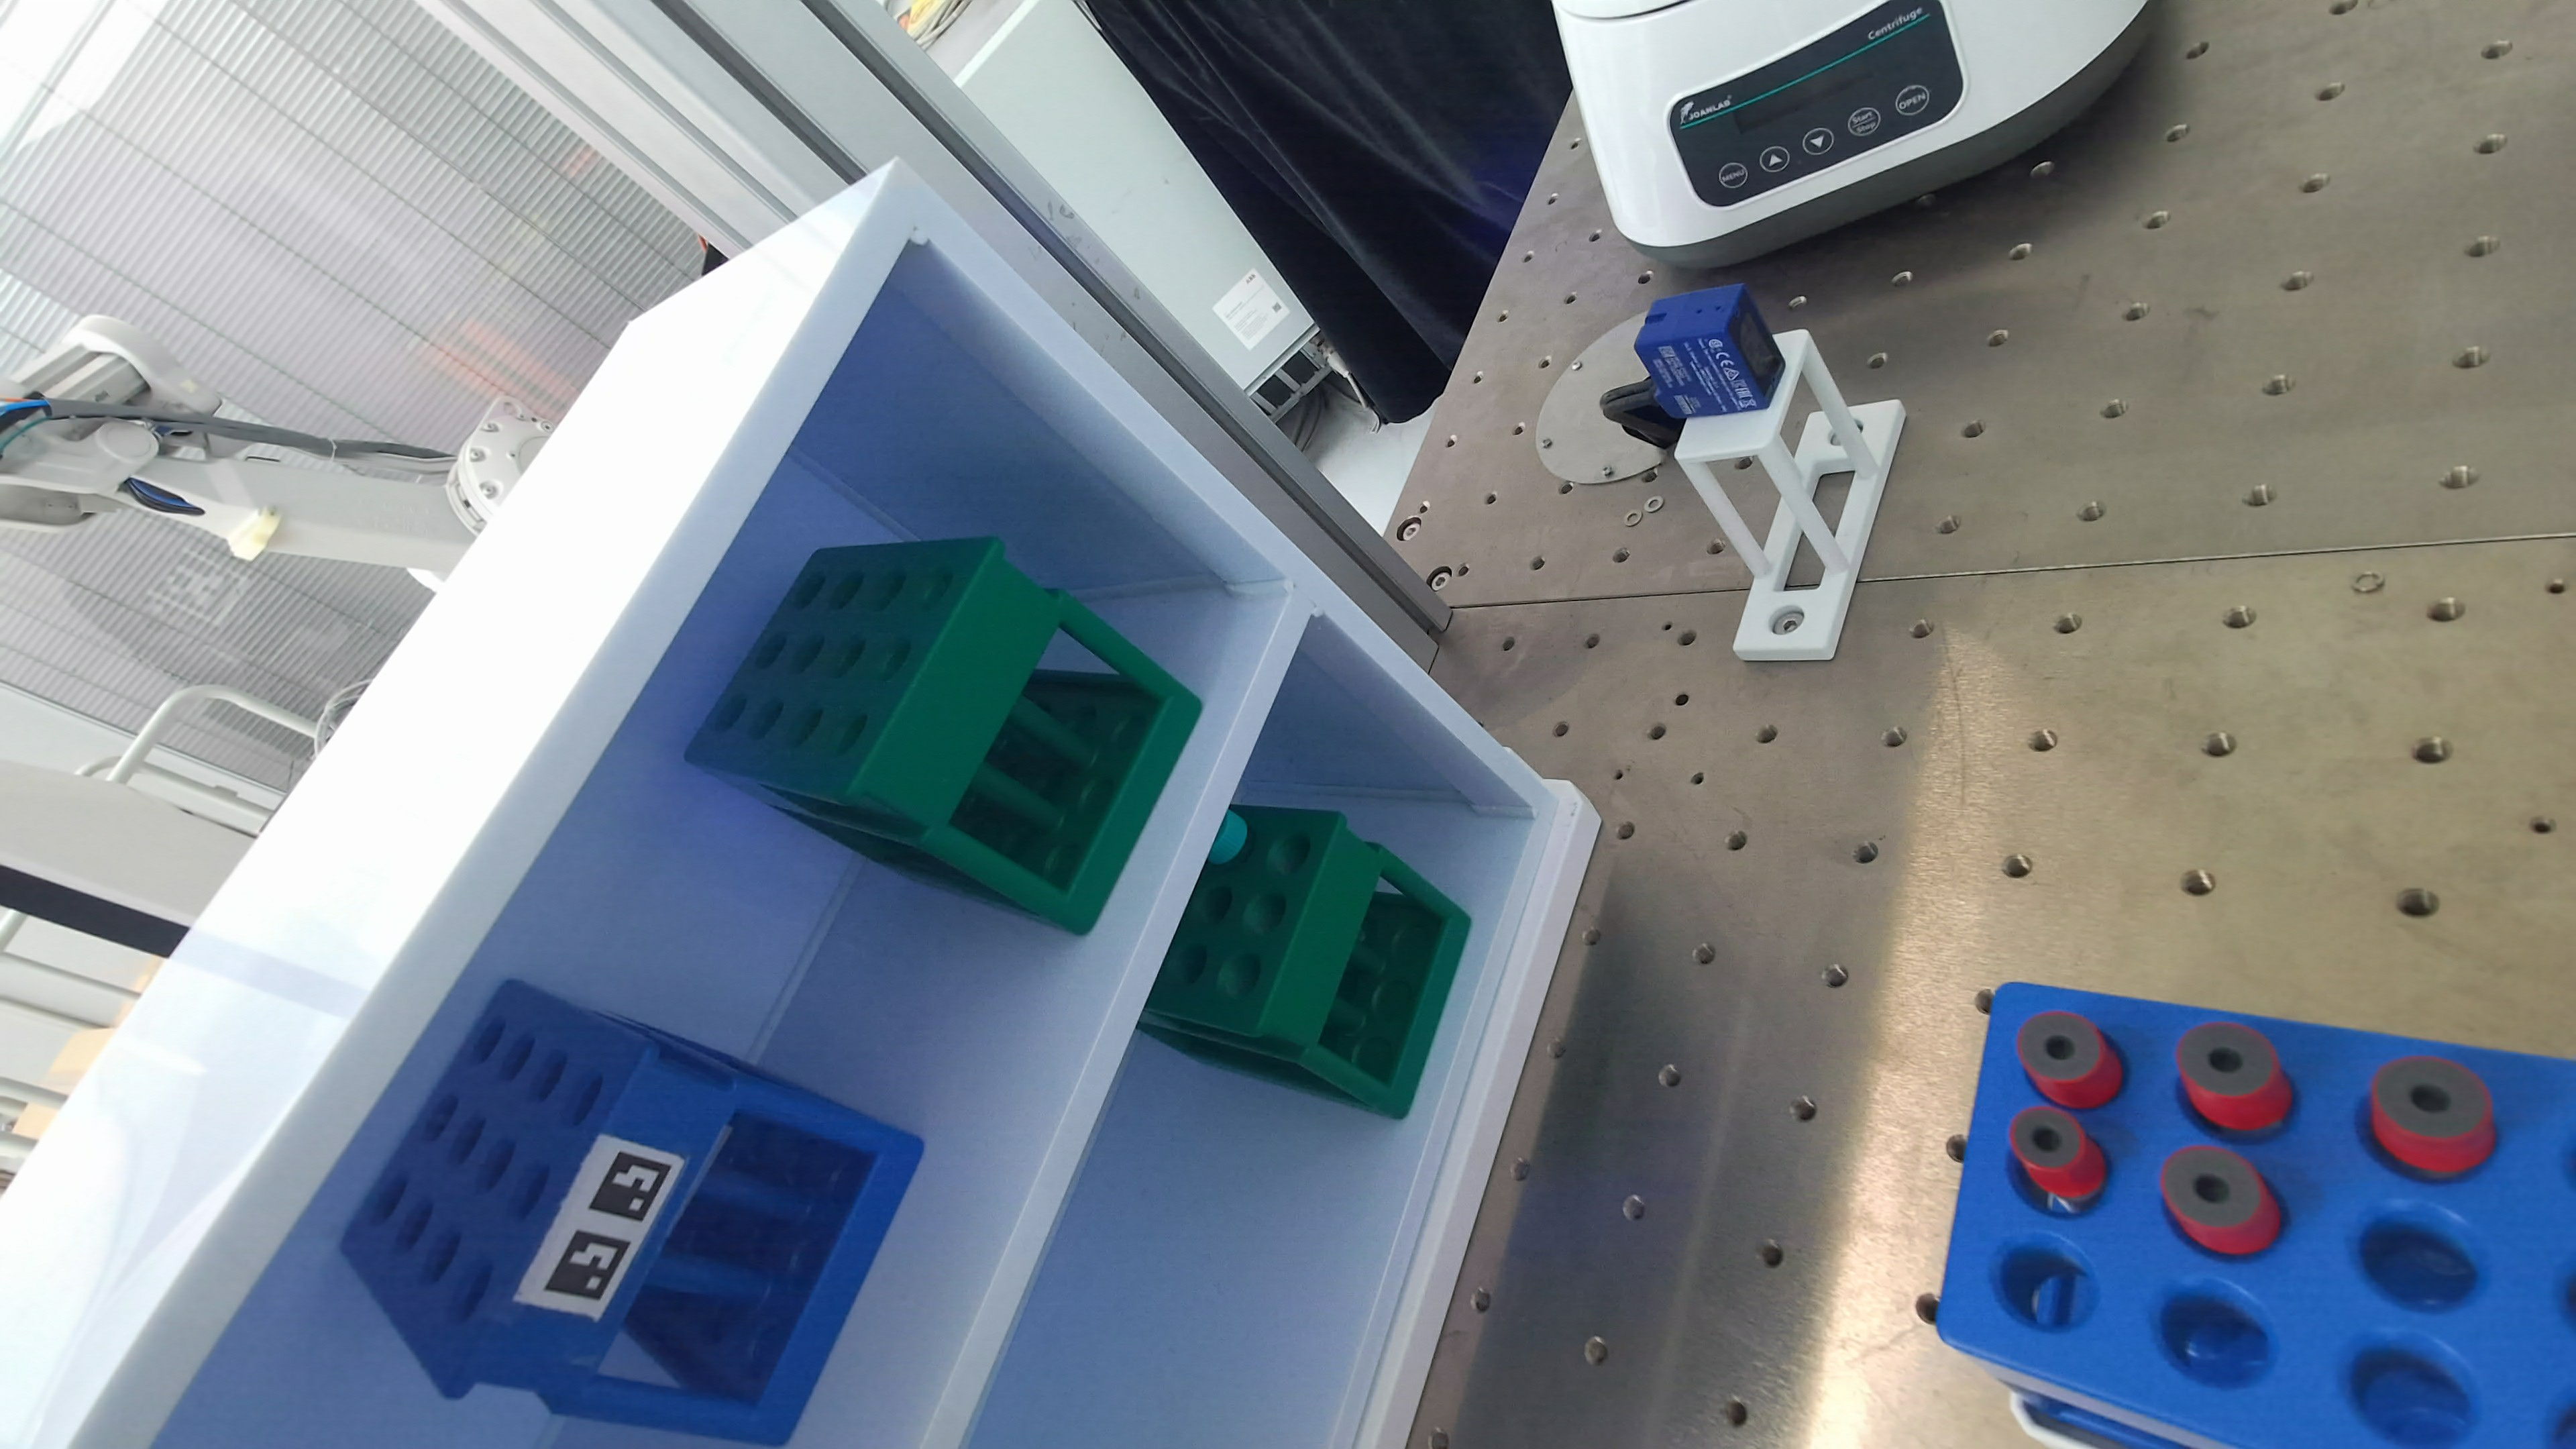10ML_centrifuge_tube: (1207, 810, 1249, 865)
10ML_sorting_tube_rack: (1937, 984, 2576, 1447), (341, 980, 922, 1444)
5ML_sorting_tube_rack: (686, 538, 1201, 932), (1141, 807, 1470, 1118)
blood_tube: (2371, 1056, 2495, 1175), (2160, 1145, 2281, 1254), (2176, 1021, 2291, 1131), (2015, 1012, 2121, 1108), (2010, 1104, 2107, 1201)
centrifuge_close: (1555, 0, 2153, 267)
tube_rack_storage_cabinet: (0, 168, 1592, 1445)
